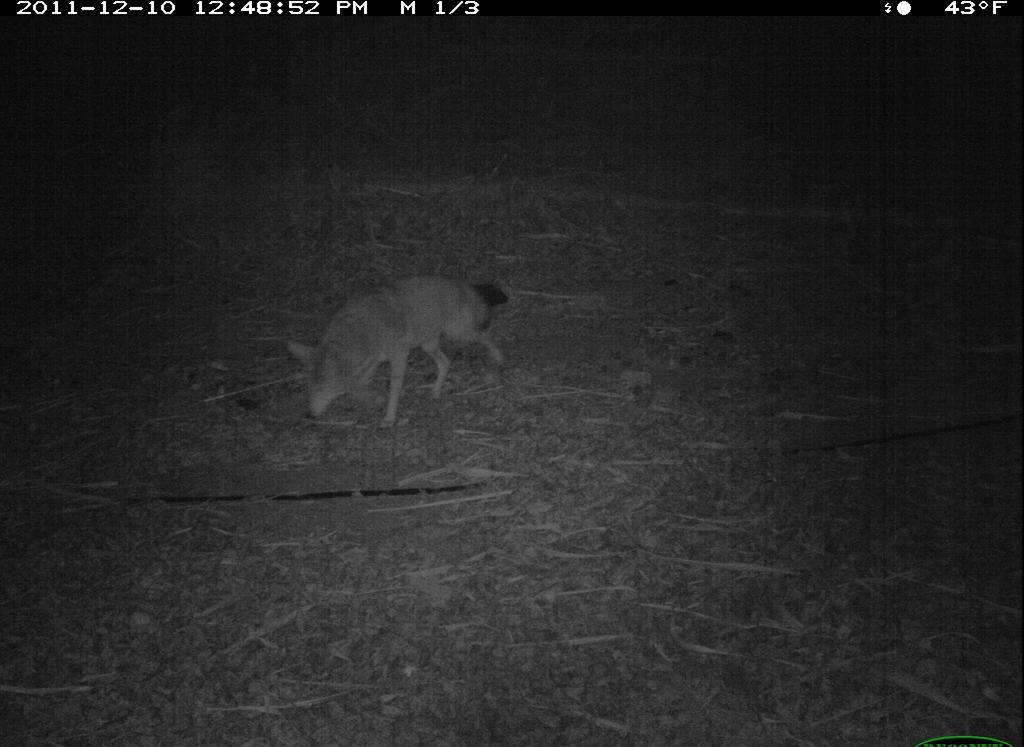coyote: (287, 265, 521, 434)
